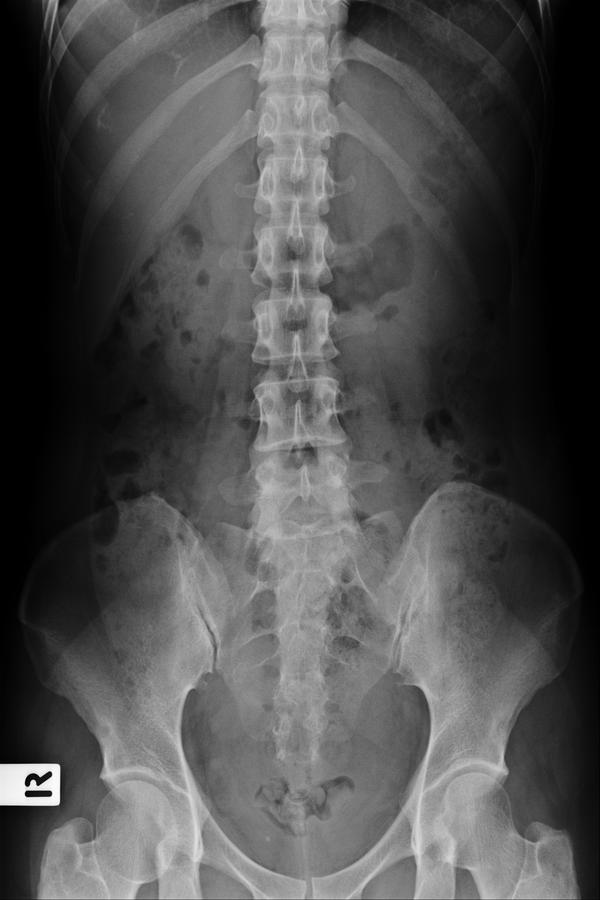lumbar scoliosis: (243, 8, 357, 575)
